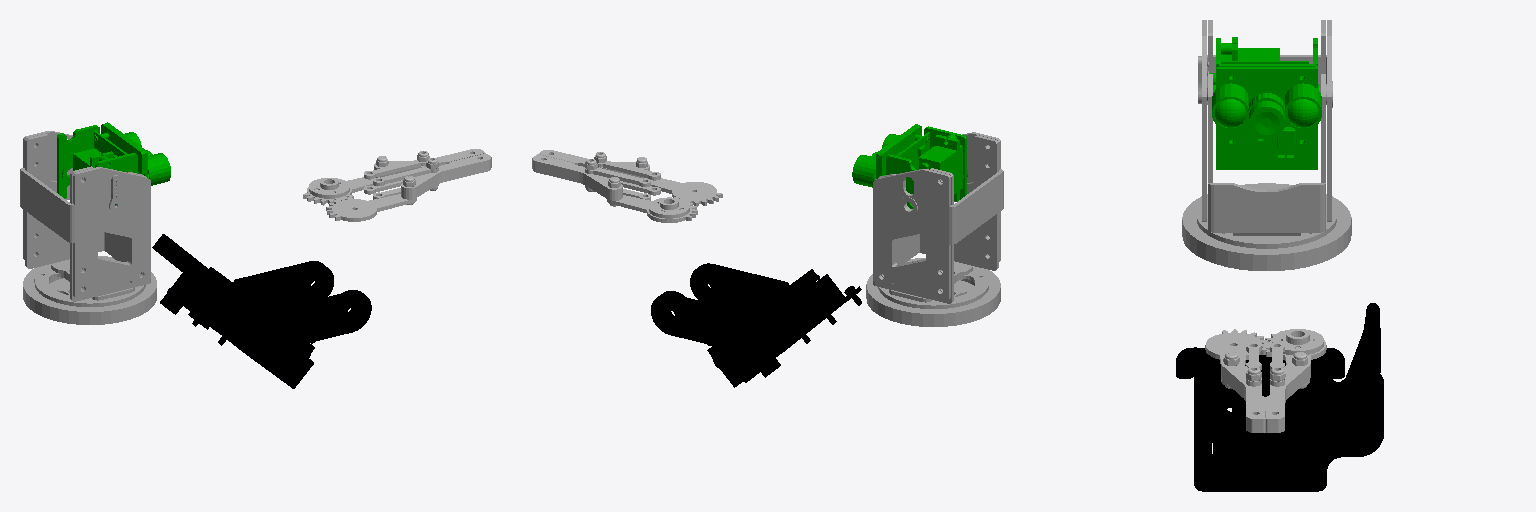
URDF robot description (transbot_description):
<?xml version="1.0" encoding="utf-8"?>
<!-- This URDF was automatically created by SolidWorks to URDF Exporter! Originally created by [author] ([email redacted]) 
     Commit Version: 1.6.0-1-g15f4949  Build Version: 1.6.7594.29634
     For more information, please see http://wiki.ros.org/sw_urdf_exporter -->
<robot name="transbot_description">
    <link name="base_footprint"/>
    <link name="base_link">
        <inertial>
            <origin xyz="-0.011 0.0002 -0.00832" rpy="0 0 0"/>
            <mass value="1.1011218463245"/>
            <inertia
                    ixx="0.00683403160871643"
                    ixy="-1.43326126624159E-06"
                    ixz="0.000665507738691208"
                    iyy="0.0091844048006001"
                    iyz="3.7191085325542E-06"
                    izz="0.0114582299070878"/>
        </inertial>
        <visual>
            <origin xyz="0 0 0" rpy="0 0 -1.5708"/>
            <geometry>
                <mesh filename="package://transbot_description/meshes/base_link.STL"/>
            </geometry>
            <material name="">
                <color rgba="0 0.7 0 1"/>
            </material>
        </visual>
        <collision>
            <origin xyz="0 0 0" rpy="0 0 -1.5708"/>
            <geometry>
                <mesh filename="package://transbot_description/meshes/base_link.STL"/>
            </geometry>
        </collision>
    </link>
    <joint name="base_joint" type="fixed">
        <parent link="base_footprint"/>
        <child link="base_link"/>
        <origin xyz="0.0 0.0 0.08" rpy="0 0 0"/>
    </joint>
    <link name="camera_link1">
        <inertial>
            <origin xyz="-0.00085 -0.00011 0.0265" rpy="0 0 0"/>
            <mass value="0.0399061772032197"/>
            <inertia
                    ixx="3.84254066548074E-05"
                    ixy="1.076900833553E-09"
                    ixz="3.57327173039896E-06"
                    iyy="3.36244178007914E-05"
                    iyz="1.93669718797554E-07"
                    izz="2.62192147114532E-05"/>
        </inertial>
        <visual>
            <origin xyz="0 0 0" rpy="0 0 0"/>
            <geometry>
                <mesh filename="package://transbot_description/meshes/camera_link1.STL"/>
            </geometry>
            <material name="">
                <color rgba="0.7 0.7 0.7 1"/>
            </material>
        </visual>
        <collision>
            <origin xyz="0 0 0" rpy="0 0 0"/>
            <geometry>
                <mesh filename="package://transbot_description/meshes/camera_link1.STL"/>
            </geometry>
        </collision>
    </link>
    <joint name="camera_joint1" type="revolute">
        <origin xyz="0.0484 0 0.028" rpy="0 0 0"/>
        <parent link="base_link"/>
        <child link="camera_link1"/>
        <axis xyz="0 0 1"/>
        <limit lower="-1.5708" upper="1.5708" effort="100" velocity="1"/>
    </joint>
    <link name="camera_link2">
        <inertial>
            <origin xyz="0.01197 -0.00357 -0.002371" rpy="0 0 0"/>
            <mass value="0.0213007032723301"/>
            <inertia
                    ixx="4.58408579245637E-06"
                    ixy="-1.63558898040405E-07"
                    ixz="-6.34500337137932E-07"
                    iyy="5.57757254163349E-06"
                    iyz="-6.90601538201338E-08"
                    izz="4.45771268240451E-06"/>
        </inertial>
        <visual>
            <origin xyz="0 0 0" rpy="0 0 0"/>
            <geometry>
                <mesh filename="package://transbot_description/meshes/camera_link2.STL"/>
            </geometry>
            <material name="">
                <color rgba="0 0.7 0 1"/>
            </material>
        </visual>
        <collision>
            <origin xyz="0 0 0" rpy="0 0 0"/>
            <geometry>
                <mesh filename="package://transbot_description/meshes/camera_link2.STL"/>
            </geometry>
        </collision>
    </link>
    <joint name="camera_joint2" type="revolute">
        <origin xyz="-0.0006 0 0.06145" rpy="-1.5708 0 0"/>
        <parent link="camera_link1"/>
        <child link="camera_link2"/>
        <axis xyz="0 0 -1"/>
        <limit lower="-1.5708" upper="1.5708" effort="100" velocity="1"/>
    </joint>
    <link name="arm">
        <inertial>
            <origin xyz="-0.006174 8.44369E-05 0.0132" rpy="0 0 0"/>
            <mass value="0.067681113134478"/>
            <inertia
                    ixx="2.68497509518873E-05"
                    ixy="-3.33020165981552E-06"
                    ixz="-9.65563060195426E-07"
                    iyy="3.51677567732461E-05"
                    iyz="-4.72072757937217E-06"
                    izz="4.4994530861743E-05"/>
        </inertial>
        <visual>
            <origin xyz="0 0 0" rpy="0 0 0"/>
            <geometry>
                <mesh filename="package://transbot_description/meshes/arm.STL"/>
            </geometry>
            <material name="">
                <color rgba="0 0 0 1"/>
            </material>
        </visual>
        <collision>
            <origin xyz="0 0 0" rpy="0 0 0"/>
            <geometry>
                <mesh filename="package://transbot_description/meshes/arm.STL"/>
            </geometry>
        </collision>
    </link>
    <joint name="arm_joint" type="fixed">
        <origin xyz="0.12925 0 -0.014083" rpy="-0.7854 0 -1.5708"/>
        <parent link="base_link"/>
        <child link="arm"/>
        <axis xyz="0 0 0"/>
    </joint>
    <link name="arm_link1">
        <inertial>
            <origin xyz="-0.00227 0.024777 0.000485" rpy="0 1.5708 0"/>
            <mass value="0.0315348657457593"/>
            <inertia
                    ixx="2.62365924906028E-05"
                    ixy="-8.71620806198248E-07"
                    ixz="3.70960358896292E-09"
                    iyy="5.75254728345384E-06"
                    iyz="1.32494709462361E-07"
                    izz="2.43479091390021E-05"/>
        </inertial>
        <visual>
            <origin xyz="0 0 0" rpy="0 0 0"/>
            <geometry>
                <mesh filename="package://transbot_description/meshes/arm_link1.STL"/>
            </geometry>
            <material name="">
                <color rgba="0.75294 0.75294 0.75294 1"/>
            </material>
        </visual>
        <collision>
            <origin xyz="0 0 0" rpy="0 0 0"/>
            <geometry>
                <mesh filename="package://transbot_description/meshes/arm_link1.STL"/>
            </geometry>
        </collision>
    </link>
    <joint name="arm_joint1" type="revolute">
        <origin xyz="0 0.0295 0.0471" rpy="0 -1.5708 3.14"/>
        <parent link="arm"/>
        <child link="arm_link1"/>
        <axis xyz="0 0 1"/>
        <limit lower="-3.927" upper="0" effort="100" velocity="1"/>
    </joint>
    <link name="arm_link2">
        <inertial>
            <origin xyz="-0.012 0.04428 -0.00083" rpy="0 0 0"/>
            <mass value="0.064068284960248"/>
            <inertia
                    ixx="5.32496834034383E-05"
                    ixy="1.14801087297394E-05"
                    ixz="-7.21376567958445E-07"
                    iyy="1.94399604109465E-05"
                    iyz="1.57043385958373E-06"
                    izz="5.71389111747307E-05"/>
        </inertial>
        <visual>
            <origin xyz="0 0 0" rpy="0 0 0"/>
            <geometry>
                <mesh filename="package://transbot_description/meshes/arm_link2.STL"/>
            </geometry>
            <material name="">
                <color rgba="0 0.7 0 1"/>
            </material>
        </visual>
        <collision>
            <origin xyz="0 0 0" rpy="0 0 0"/>
            <geometry>
                <mesh filename="package://transbot_description/meshes/arm_link2.STL"/>
            </geometry>
        </collision>
    </link>
    <joint name="arm_joint2" type="revolute">
        <origin xyz="0 0.08285 0" rpy="0 0 -2.3562"/>
        <parent link="arm_link1"/>
        <child link="arm_link2"/>
        <axis xyz="0 0 1"/>
        <limit lower="-0.2617" upper="3.926875" effort="100" velocity="1"/>
    </joint>
    <link name="right_link1">
        <inertial>
            <origin xyz="-0.00022 0.0042 0.0001565" rpy="0 0 0"/>
            <mass value="0.00183348845051841"/>
            <inertia
                    ixx="2.0324777292641E-07"
                    ixy="-8.64022960782153E-09"
                    ixz="3.40379009885252E-10"
                    iyy="5.15029451291985E-08"
                    iyz="-6.50409742399053E-09"
                    izz="2.47897272989704E-07"/>
        </inertial>
        <visual>
            <origin xyz="0 0 0" rpy="0 0 0"/>
            <geometry>
                <mesh filename="package://transbot_description/meshes/right_link1.STL"/>
            </geometry>
            <material name="">
                <color rgba="0.75294 0.75294 0.75294 1"/>
            </material>
        </visual>
        <collision>
            <origin xyz="0 0 0" rpy="0 0 0"/>
            <geometry>
                <mesh filename="package://transbot_description/meshes/right_link1.STL"/>
            </geometry>
        </collision>
    </link>
    <joint name="Jaws_joint" type="revolute">
        <origin xyz="0.0045 0.06415 -0.01185" rpy="0 1.5708 0"/>
        <parent link="arm_link2"/>
        <child link="right_link1"/>
        <axis xyz="0 0 1"/>
        <limit lower="-1.6" upper="0" effort="100" velocity="1"/>
    </joint>
    <link name="right_link2">
        <inertial>
            <origin xyz="-0.0062 0.020796 -0.0031" rpy="0 0 0"/>
            <mass value="0.00249011366902266"/>
            <inertia
                    ixx="6.52013082134657E-07"
                    ixy="1.28158340799434E-07"
                    ixz="1.32545668593733E-09"
                    iyy="5.40527011205097E-08"
                    iyz="-4.44570381398951E-09"
                    izz="6.84401893462913E-07"/>
        </inertial>
        <visual>
            <origin xyz="0 0 0" rpy="0 0 0"/>
            <geometry>
                <mesh filename="package://transbot_description/meshes/right_link2.STL"/>
            </geometry>
            <material name="">
                <color rgba="0.75294  0.75294 0.75294 1"/>
            </material>
        </visual>
        <collision>
            <origin xyz="0 0 0" rpy="0 0 0"/>
            <geometry>
                <mesh filename="package://transbot_description/meshes/right_link2.STL"/>
            </geometry>
        </collision>
    </link>
    <joint name="right_joint2" type="continuous">
        <origin xyz="0.0009 0.03 0" rpy="0 0 0"/>
        <parent link="right_link1"/>
        <child link="right_link2"/>
        <axis xyz="0 0 -1"/>
        <mimic joint="Jaws_joint" multiplier="1"/>
    </joint>
    <link name="right_link3">
        <inertial>
            <origin xyz="6.84923716706099E-05 0.018624 -0.00265" rpy="0 0 0"/>
            <mass value="0.000745"/>
            <inertia
                    ixx="1.04686918388409E-07"
                    ixy="-3.26477129854809E-10"
                    ixz="1.48779762241015E-11"
                    iyy="1.59187935398975E-08"
                    iyz="4.04566802579487E-09"
                    izz="9.13337951601148E-08"/>
        </inertial>
        <visual>
            <origin xyz="0 0 0" rpy="0 0 0"/>
            <geometry>
                <mesh filename="package://transbot_description/meshes/right_link3.STL"/>
            </geometry>
            <material name="">
                <color rgba="0.75294 0.75294 0.75294 1"/>
            </material>
        </visual>
        <collision>
            <origin xyz="0 0 0" rpy="0 0 0"/>
            <geometry>
                <mesh filename="package://transbot_description/meshes/right_link3.STL"/>
            </geometry>
        </collision>
    </link>
    <joint name="right_joint3" type="continuous">
        <origin xyz="0.0045 0.08215 -0.00395" rpy="0 1.5708 0"/>
        <parent link="arm_link2"/>
        <child link="right_link3"/>
        <axis xyz="0 0 1"/>
        <mimic joint="right_joint2" multiplier="1"/>
    </joint>
    <link name="left_link1">
        <inertial>
            <origin xyz="0.0002688 0.00628852 0.001" rpy="0 0 0"/>
            <mass value="0.00121"/>
            <inertia
                    ixx="1.69131415914509E-07"
                    ixy="9.14718502533155E-09"
                    ixz="-1.90844103767323E-14"
                    iyy="3.19585470928261E-08"
                    iyz="3.97689754998194E-14"
                    izz="2.00283501063598E-07"/>
        </inertial>
        <visual>
            <origin xyz="0 0 0" rpy="0 0 0"/>
            <geometry>
                <mesh filename="package://transbot_description/meshes/left_link1.STL"/>
            </geometry>
            <material name="">
                <color rgba="0.75294 0.75294 0.75294 1"/>
            </material>
        </visual>
        <collision>
            <origin xyz="0 0 0" rpy="0 0 0"/>
            <geometry>
                <mesh filename="package://transbot_description/meshes/left_link1.STL"/>
            </geometry>
        </collision>
    </link>
    <joint name="left_joint1" type="continuous">
        <origin xyz="0.0045 0.06415 0.0127" rpy="0 1.5708 0"/>
        <parent link="arm_link2"/>
        <child link="left_link1"/>
        <axis xyz="0 0 1"/>
        <mimic joint="Jaws_joint" multiplier="-1"/>
    </joint>
    <link name="left_link2">
        <inertial>
            <origin xyz="0.0062 0.0208 -0.0031" rpy="0 0 0"/>
            <mass value="0.00249011366902267"/>
            <inertia
                    ixx="6.52017871569716E-07"
                    ixy="-1.28147201790302E-07"
                    ixz="-1.325374459077E-09"
                    iyy="5.40479137210298E-08"
                    iyz="-4.44572858127216E-09"
                    izz="6.84401895498491E-07"/>
        </inertial>
        <visual>
            <origin xyz="0 0 0" rpy="0 0 0"/>
            <geometry>
                <mesh filename="package://transbot_description/meshes/left_link2.STL"/>
            </geometry>
            <material name="">
                <color rgba="0.75294 0.75294 0.75294 1"/>
            </material>
        </visual>
        <collision>
            <origin xyz="0 0 0" rpy="0 0 0"/>
            <geometry>
                <mesh filename="package://transbot_description/meshes/left_link2.STL"/>
            </geometry>
        </collision>
    </link>
    <joint name="left_joint2" type="continuous">
        <origin xyz="-0.00091 0.03 0" rpy="0 0 0"/>
        <parent link="left_link1"/>
        <child link="left_link2"/>
        <axis xyz="0 0 1"/>
        <mimic joint="left_joint1" multiplier="-1"/>
    </joint>
    <link name="left_link3">
        <inertial>
            <origin xyz="8.14319609551461E-05 0.018624 -0.0035" rpy="0 0 0"/>
            <mass value="0.000745"/>
            <inertia
                    ixx="1.04686410925661E-07"
                    ixy="-3.8815108567023E-10"
                    ixz="1.76885865580073E-11"
                    iyy="1.59192877854819E-08"
                    iyz="4.04566084059286E-09"
                    izz="9.13337860026262E-08"/>
        </inertial>
        <visual>
            <origin xyz="0 0 0" rpy="0 0 0"/>
            <geometry>
                <mesh filename="package://transbot_description/meshes/left_link3.STL"/>
            </geometry>
            <material name="">
                <color rgba="0.75294 0.75294 0.75294 1"/>
            </material>
        </visual>
        <collision>
            <origin xyz="0 0 0" rpy="0 0 0"/>
            <geometry>
                <mesh filename="package://transbot_description/meshes/left_link3.STL"/>
            </geometry>
        </collision>
    </link>
    <joint name="left_joint3" type="continuous">
        <origin xyz="0.0045 0.08215 0.00505" rpy="0 1.5708 0"/>
        <parent link="arm_link2"/>
        <child link="left_link3"/>
        <axis xyz="0 0 1"/>
        <mimic joint="left_joint2" multiplier="-1"/>
    </joint>
</robot>

--- Render facts (derived) ---
The picture shows the robot from 3 angles, left to right: view 1: azimuth 30°, elevation 25°; view 2: azimuth 150°, elevation 25°; view 3: azimuth 270°, elevation 25°; orthographic projection.
Model transbot_description with 13 links and 12 joints (5 revolute, 5 continuous, 2 fixed), rooted at base_footprint, posed all joints at 0.
Visible links, largest first — view 1: camera_link1, arm, camera_link2, left_link2, left_link1, right_link1, right_link3, left_link3, right_link2; view 2: camera_link1, arm, camera_link2, right_link2, right_link1, left_link1, left_link3, right_link3, left_link2; view 3: arm, camera_link1, camera_link2, left_link2, right_link2, right_link1, left_link1, left_link3, right_link3.
Boxes of the visible links, <box> form: camera_link1: <box>20,131,156,324</box>; arm: <box>152,234,371,388</box>; camera_link2: <box>57,122,170,205</box>; left_link2: <box>401,153,491,204</box>; left_link1: <box>326,194,416,221</box>; right_link1: <box>303,177,372,205</box>; right_link3: <box>364,151,429,194</box>; left_link3: <box>373,158,438,199</box>; right_link2: <box>374,149,484,177</box>; camera_link1: <box>866,132,1003,326</box>; arm: <box>651,263,861,387</box>; camera_link2: <box>852,124,967,208</box>; right_link2: <box>532,154,622,206</box>; right_link1: <box>607,195,697,222</box>; left_link1: <box>651,178,722,206</box>; left_link3: <box>594,152,660,195</box>; right_link3: <box>585,159,650,200</box>; left_link2: <box>539,150,649,178</box>; arm: <box>1176,303,1383,491</box>; camera_link1: <box>1182,20,1351,270</box>; camera_link2: <box>1207,37,1321,169</box>; left_link2: <box>1221,352,1265,432</box>; right_link2: <box>1266,352,1310,432</box>; right_link1: <box>1262,329,1326,386</box>; left_link1: <box>1205,329,1269,386</box>; left_link3: <box>1246,342,1261,386</box>; right_link3: <box>1270,342,1285,386</box>.
Bounding box of the posed robot: 0.2535 × 0.08 × 0.1432 m (x, y, z).
9 mesh visuals loaded from 12 distinct referenced files (9 binary STL); not drawn: 3 (reference not matched to a file when rendering).